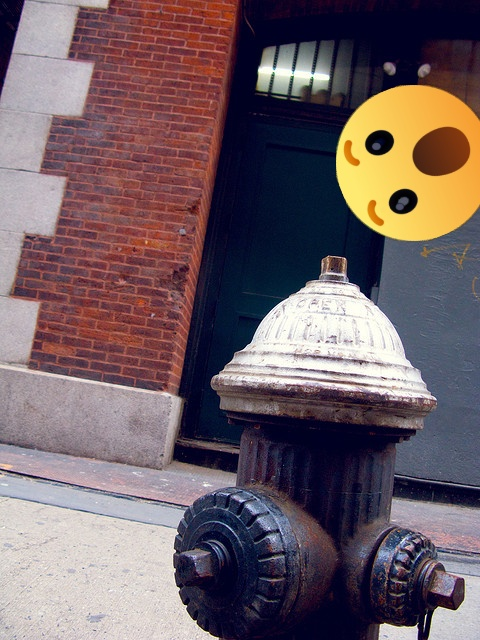wow: (336, 85, 480, 241)
